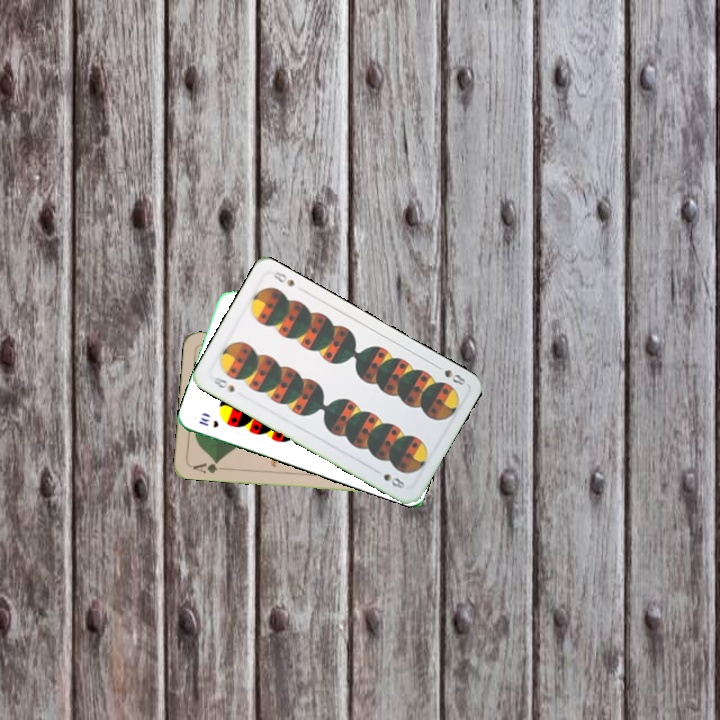GA: (189, 457, 228, 476)
S10: (195, 413, 221, 430)
S8: (431, 361, 468, 388), (209, 373, 237, 395)
